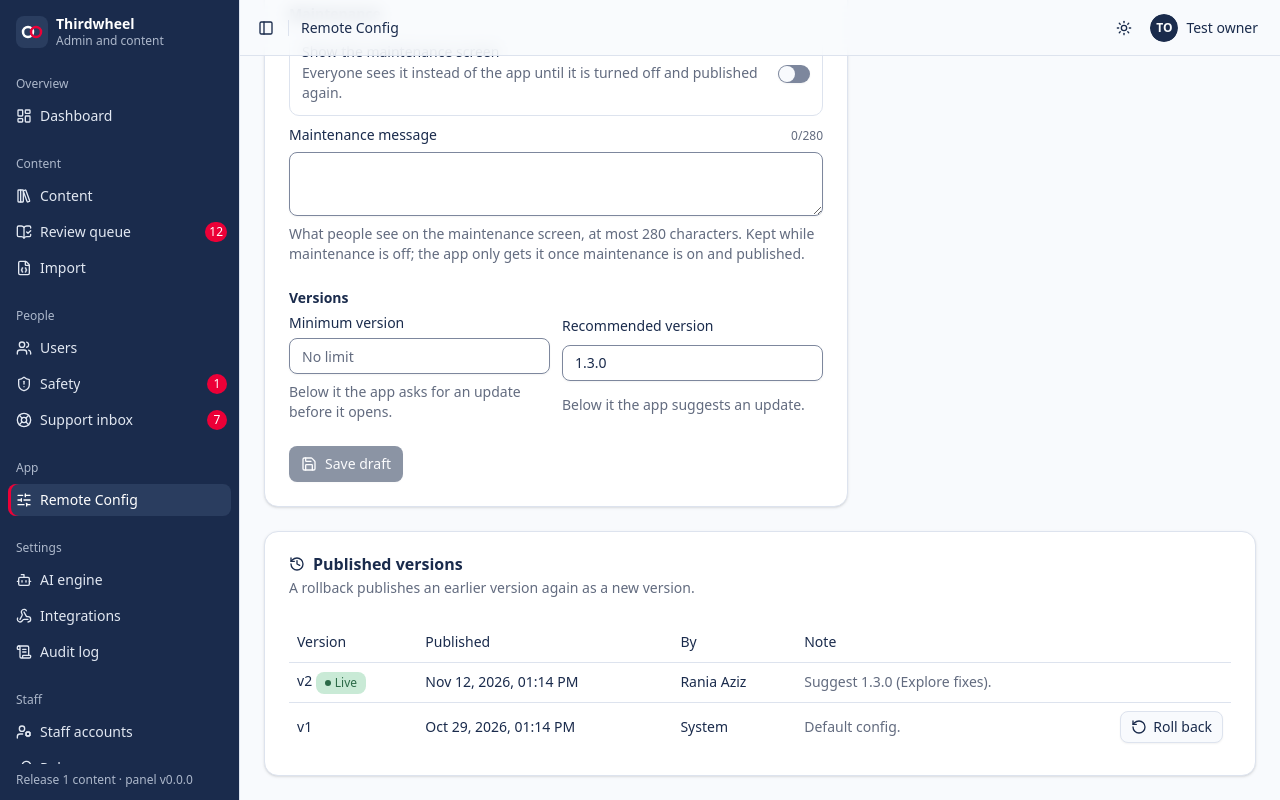
Remote Config page (mock API, reconciled with v2.0.0) › rolls back to an earlier version as a new version, which also becomes the draft
This screenshot has width=1280, height=800.
(page scrolled)
Expected: the text "Default config." is shown, [796,702,1103,750]
Click the button "Roll back": (1172, 726) [1120,710,1223,742]
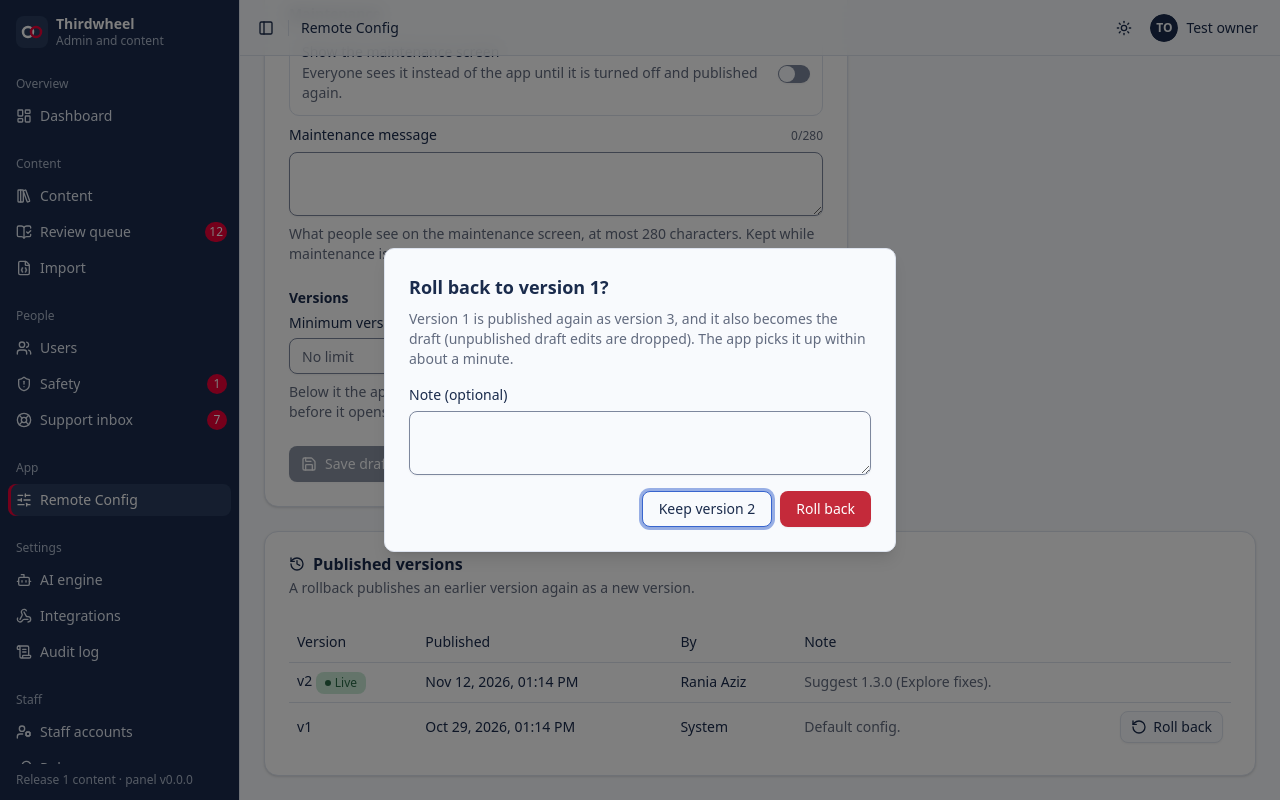
Click the button "Roll back": (826, 509) [780,491,871,527]
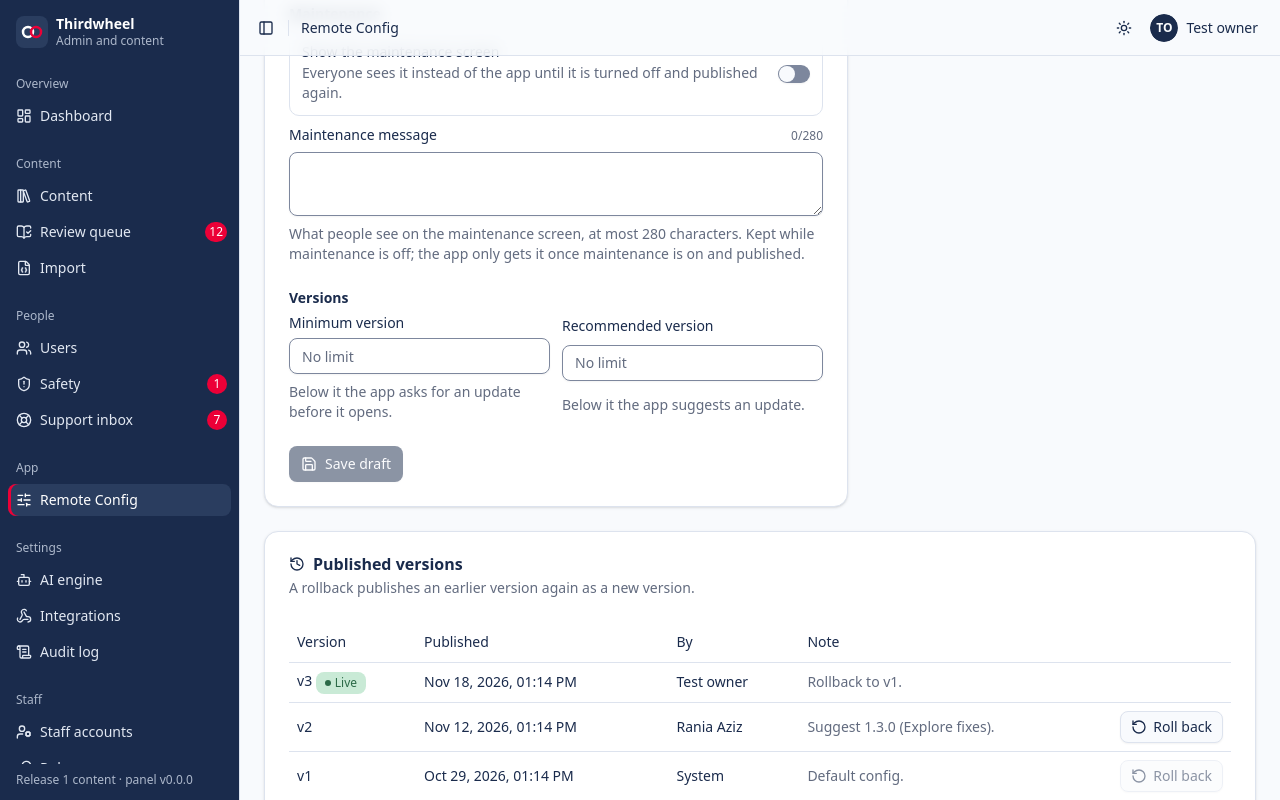
Now the text "Rollback to v1." is shown, box [799,662,1103,702]
